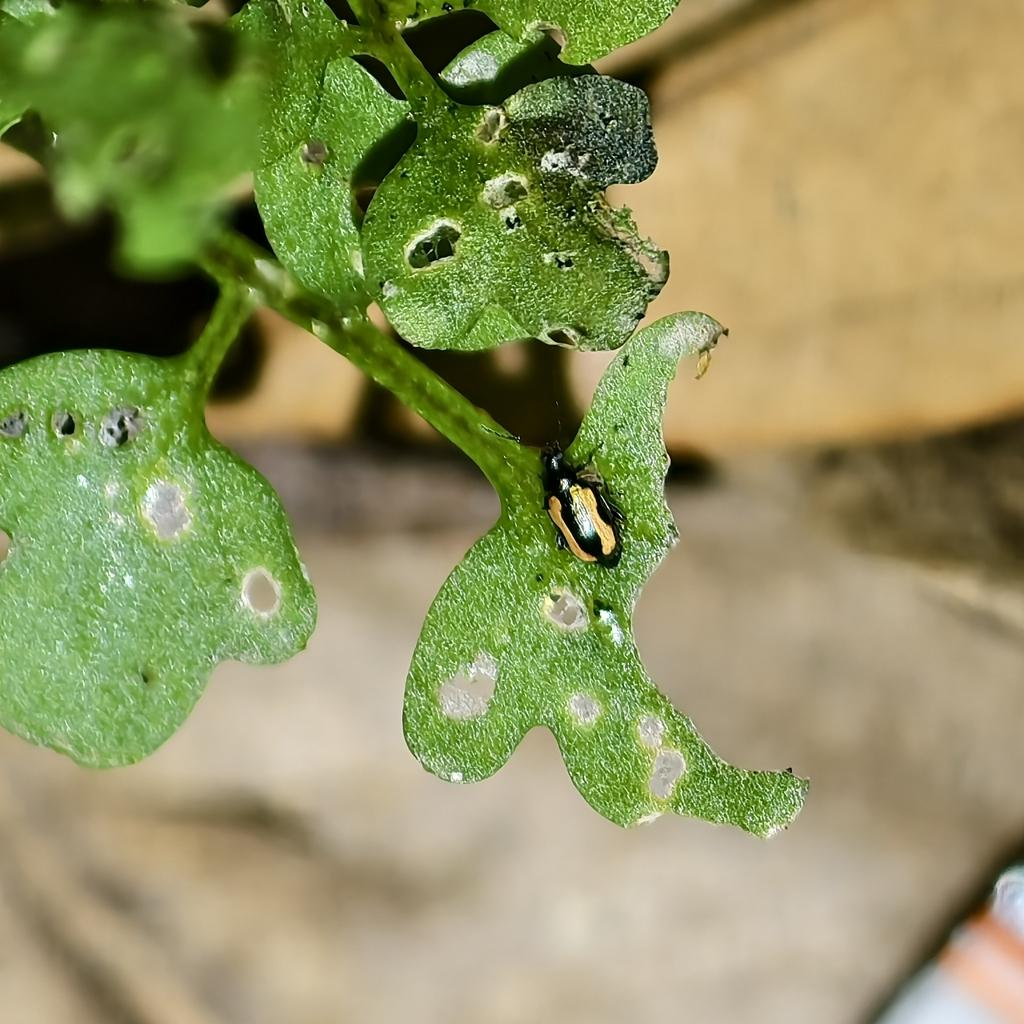flea_beetle: (514, 412, 649, 598)
